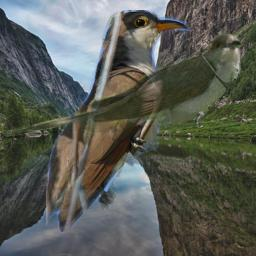Cuckoo: (46, 10, 223, 233), (5, 31, 242, 139)
